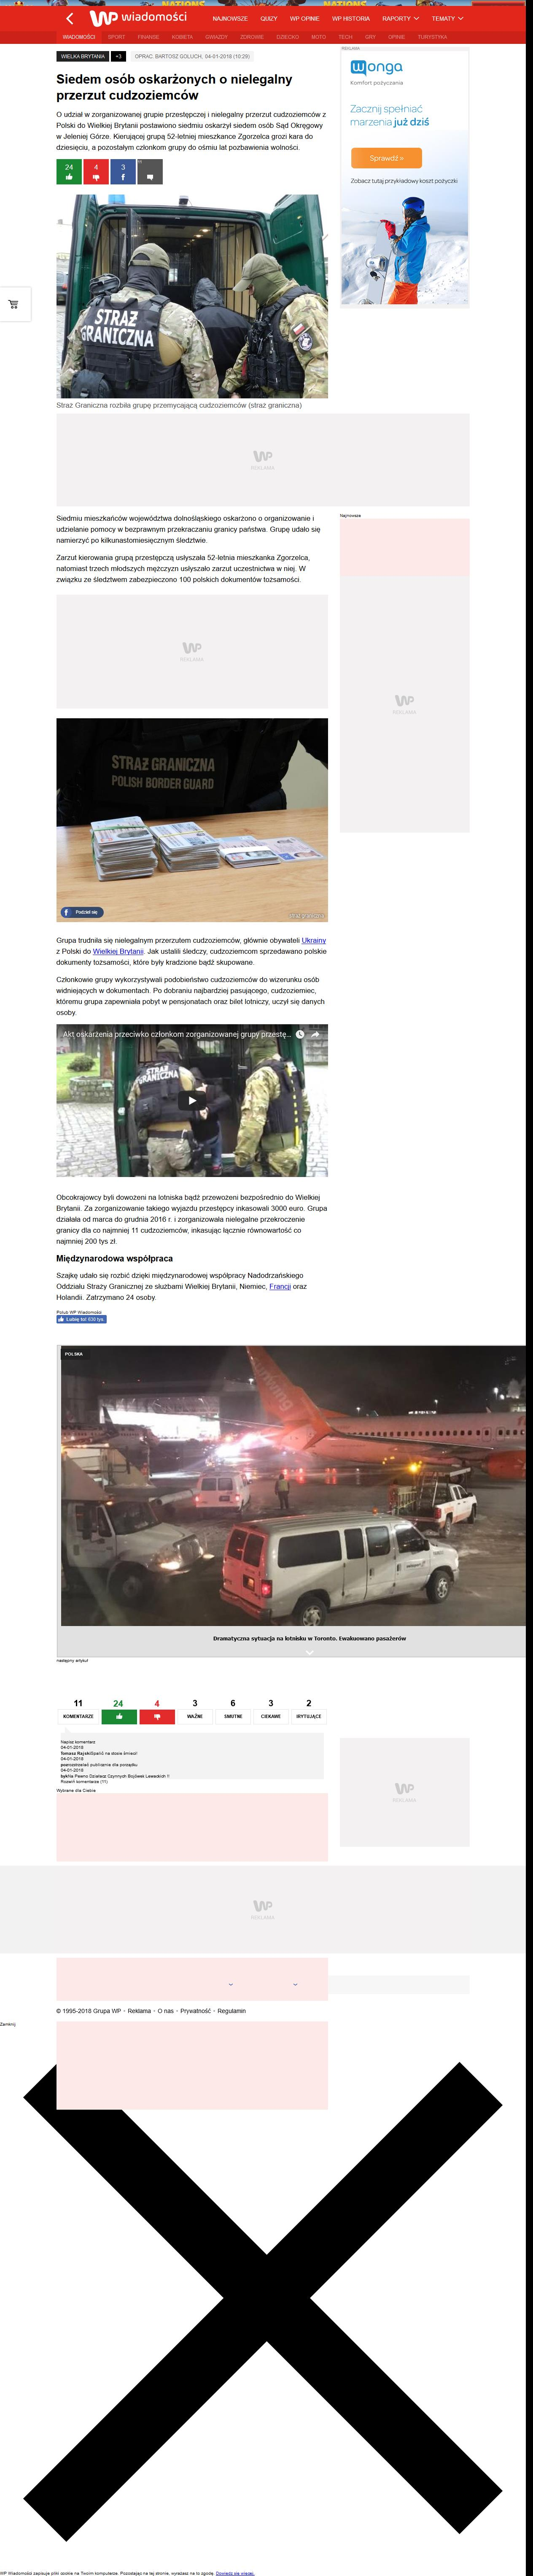title: (56, 74, 292, 100)
